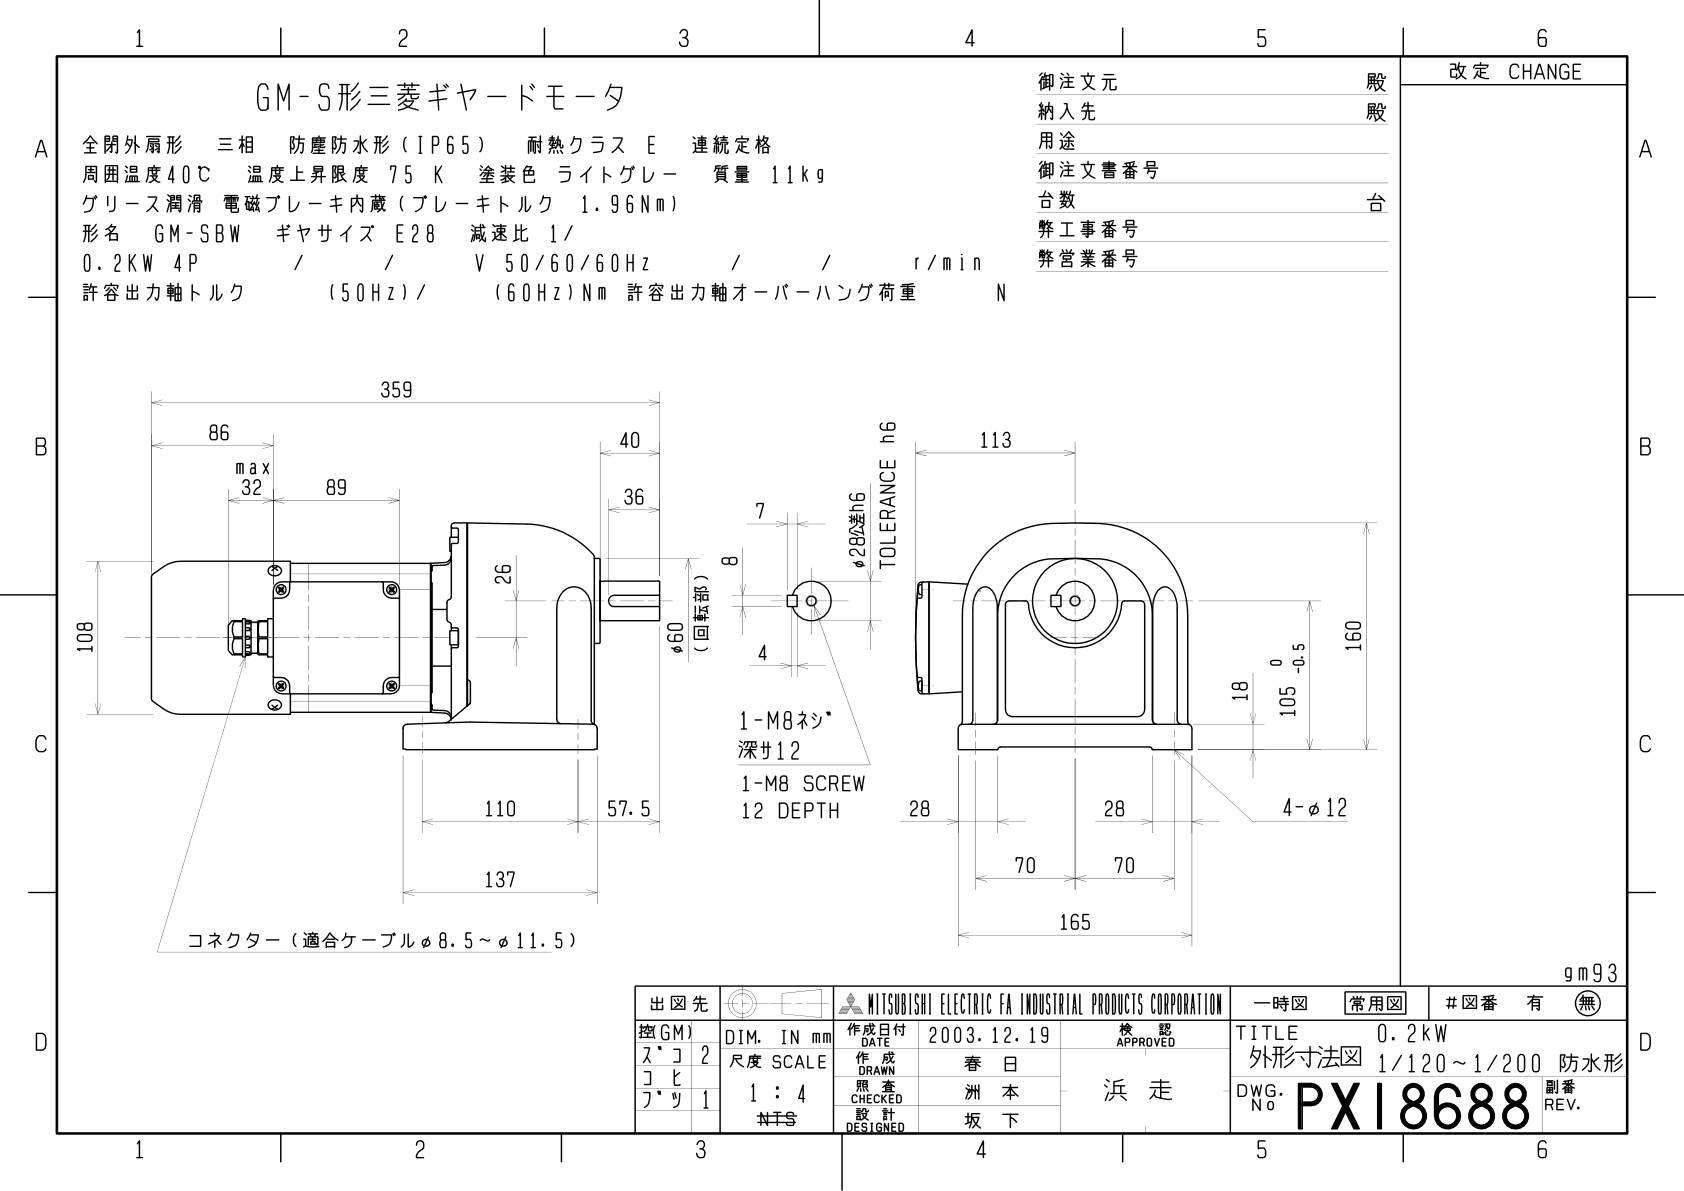GM_S_IP65＿三相_脚: (64, 347, 1392, 969)
